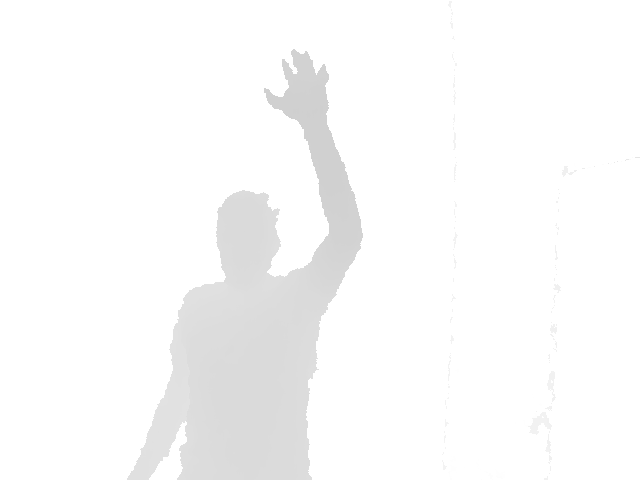hand: (262, 48, 330, 121)
head: (214, 190, 282, 281)
person: (124, 49, 365, 479)
